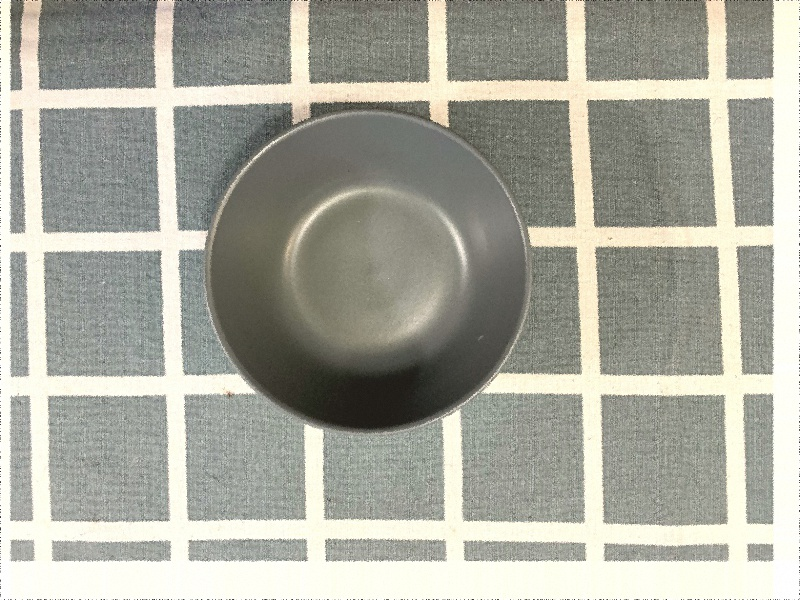bowl_big: (182, 95, 541, 440)
